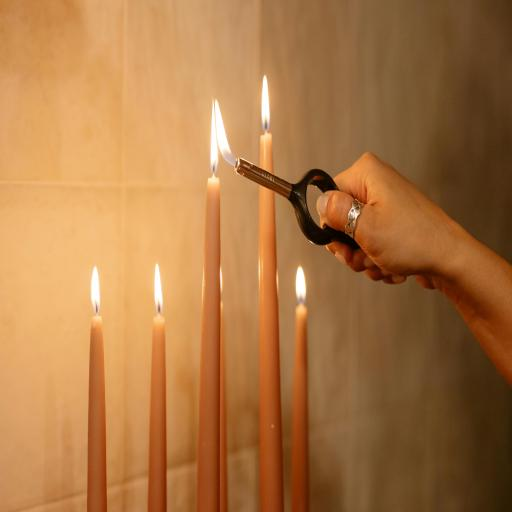candlelight: (257, 93, 285, 512), (85, 264, 107, 512), (147, 261, 168, 512), (290, 266, 310, 512), (219, 271, 228, 511)
